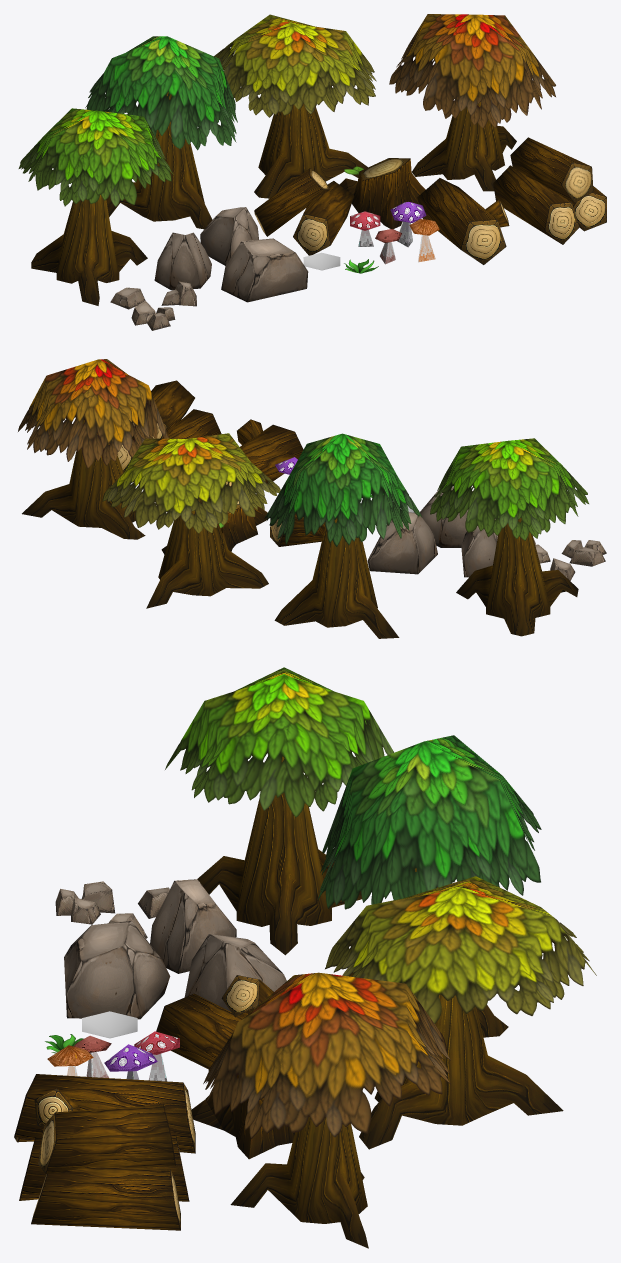
Rendered from Low Poly Forest Set.FBX.
The picture shows the model from 3 angles, top to bottom: view 1: azimuth 30°, elevation 25°; view 2: azimuth 150°, elevation 25°; view 3: azimuth 270°, elevation 25°; orthographic projection. The views are drawn at different scales.
Parts seen in each view (by area): view 1: env_tree03, env_tree02, env_tree01, env_tree04, env_treelog04, env_treelog03, env_treelog01, env_rock01, env_treelog02, env_rock03, env_rock02, env_rock04 (+7 smaller); view 2: env_tree04, env_tree01, env_tree02, env_tree03, env_rock02, env_treelog04, env_treelog01, env_rock03, env_rock01, env_treelog02, env_rock04, env_treelog03; view 3: env_tree03, env_tree02, env_tree01, env_tree04, env_treelog04, env_rock01, env_treelog01, env_treelog03, env_rock03, env_rock02, env_treelog02, env_rock04 (+5 smaller).
Part boxes in pixels (<box>): env_tree03: <box>389,14,555,191</box>; env_tree02: <box>214,14,376,198</box>; env_tree01: <box>18,108,173,305</box>; env_tree04: <box>85,36,237,229</box>; env_treelog04: <box>493,137,606,244</box>; env_treelog03: <box>254,168,354,255</box>; env_treelog01: <box>417,178,509,264</box>; env_rock01: <box>221,238,308,302</box>; env_treelog02: <box>339,158,425,228</box>; env_rock03: <box>154,232,211,290</box>; env_rock02: <box>200,207,258,265</box>; env_rock04: <box>131,300,175,330</box>; env_tree04: <box>264,433,421,638</box>; env_tree01: <box>430,438,588,636</box>; env_tree02: <box>102,433,280,608</box>; env_tree03: <box>18,359,168,539</box>; env_rock02: <box>367,512,437,574</box>; env_treelog04: <box>117,380,221,471</box>; env_treelog01: <box>237,419,303,482</box>; env_rock03: <box>461,518,497,577</box>; env_rock01: <box>420,487,472,547</box>; env_treelog02: <box>219,481,267,551</box>; env_rock04: <box>561,540,606,566</box>; env_treelog03: <box>270,513,325,546</box>; env_tree03: <box>203,972,450,1248</box>; env_tree02: <box>325,876,596,1149</box>; env_tree01: <box>165,667,393,955</box>; env_tree04: <box>317,735,541,1037</box>; env_treelog04: <box>19,1105,189,1230</box>; env_rock01: <box>64,921,170,1019</box>; env_treelog01: <box>14,1074,195,1153</box>; env_treelog03: <box>156,975,273,1069</box>; env_rock03: <box>150,879,236,973</box>; env_rock02: <box>184,934,286,1011</box>; env_treelog02: <box>191,1075,294,1159</box>; env_rock04: <box>55,881,114,924</box>.
Bounding box in the file's own units: 653 × 207 × 418.
